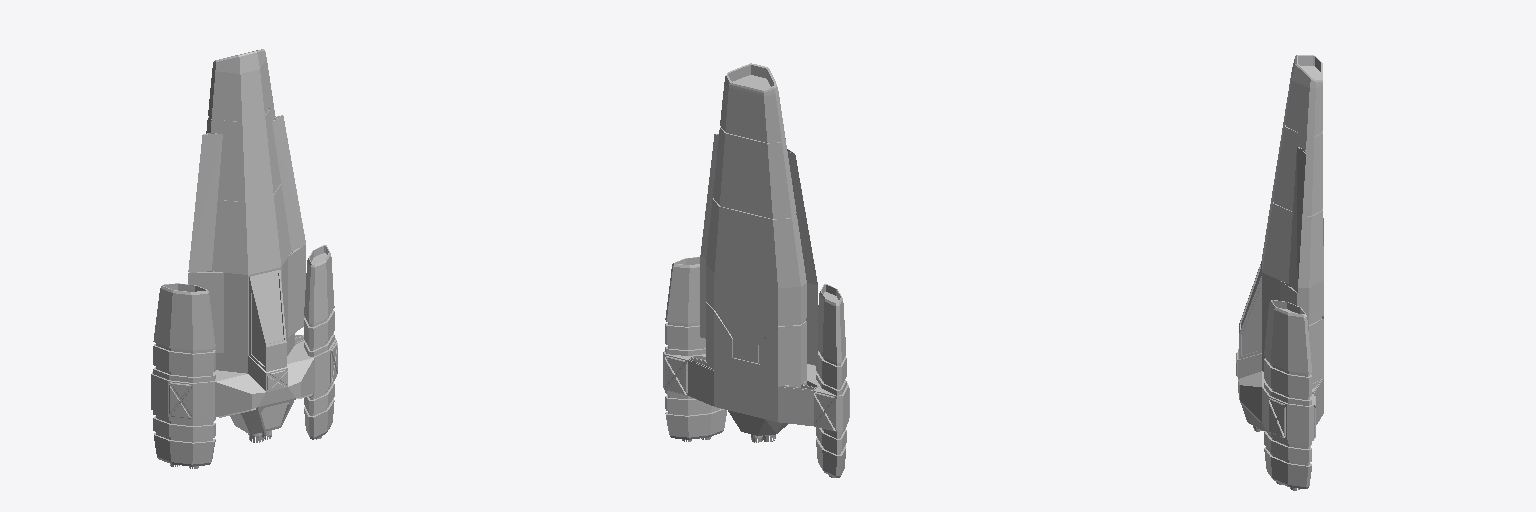
File: Blackbird Viper.obj
3 views of the same model, side by side, from view 1: azimuth 30°, elevation 25°; view 2: azimuth 150°, elevation 25°; view 3: azimuth 270°, elevation 25° (orthographic).
Parts seen in each view (by area): view 1: ship; view 2: ship; view 3: ship.
Part boxes in pixels (bbox=[...]): ship: bbox=[151, 49, 337, 468]; ship: bbox=[663, 63, 849, 477]; ship: bbox=[1236, 55, 1323, 490].
Size of the model in its own units: 113 by 236 by 47.27.